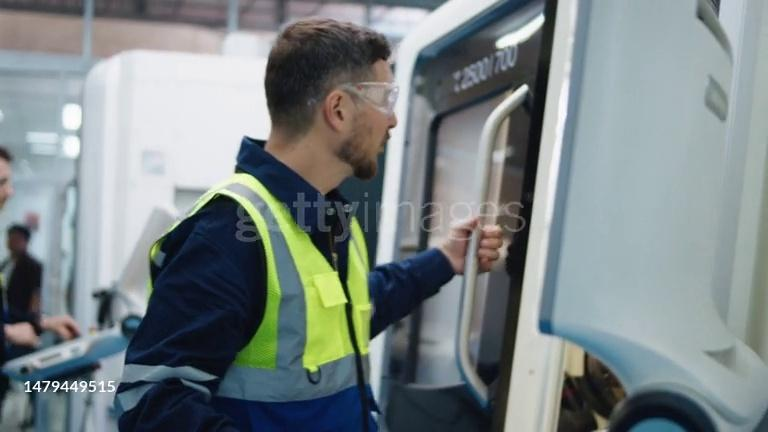person: (113, 21, 505, 427), (2, 147, 80, 431), (4, 226, 44, 322)
